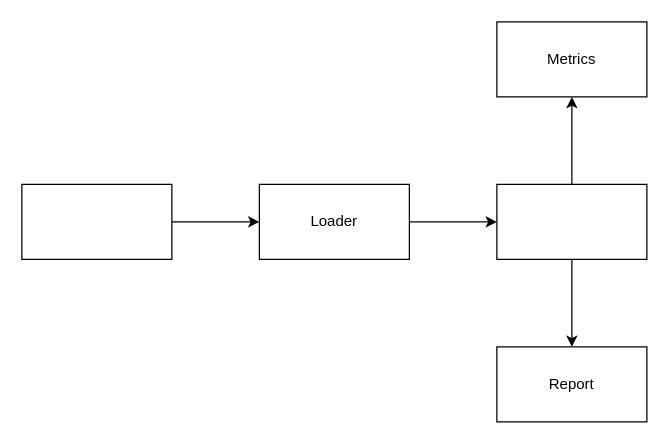
Some shapes in this 669 by 444 pixel diagram are drawn without their labels. The shapes that lost their labels are listed below. From the top down, each one's centre as x and y in pixels, then its label:
At (x=96, y=221): "Main".
At (x=571, y=221): "SIG".
